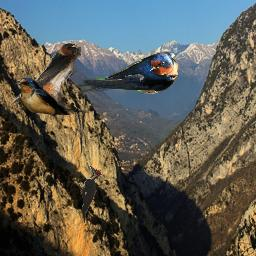Swallow: (71, 51, 179, 94), (11, 43, 81, 108), (15, 78, 90, 115)
Woodpecker: (76, 165, 102, 223)
